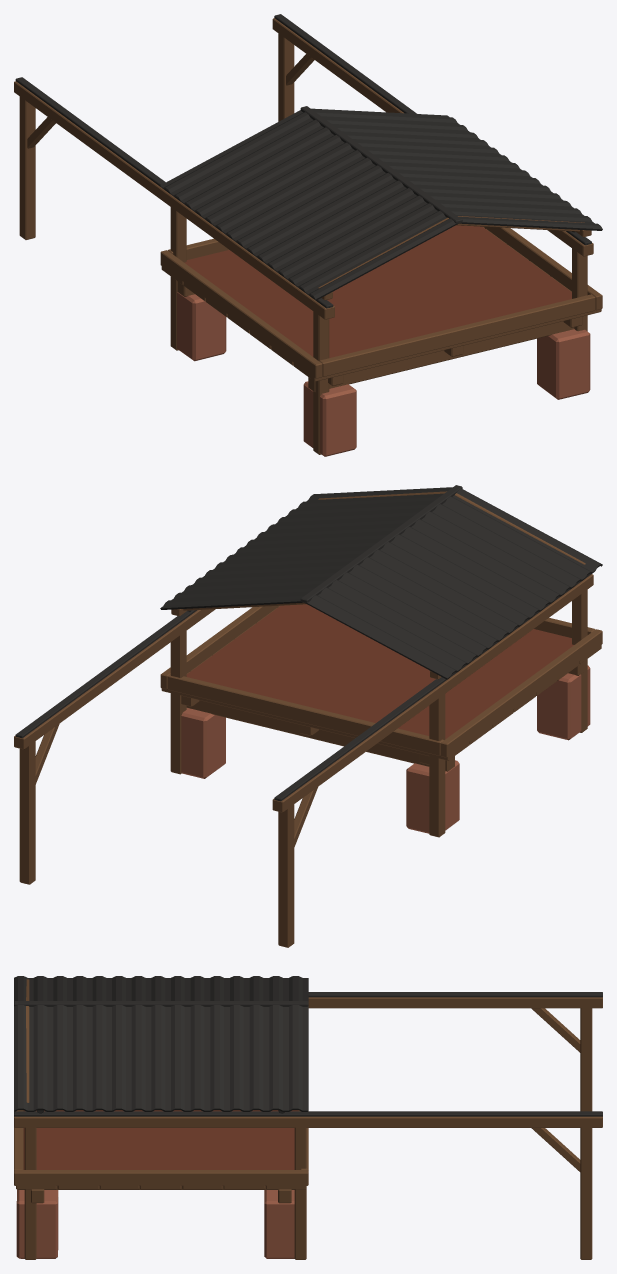
The model's file is cocoa_drying_barcaca.glb.
3 renders of one model, top to bottom at view 1: azimuth 30°, elevation 25°; view 2: azimuth 150°, elevation 25°; view 3: azimuth 270°, elevation 25°, orthographic. The views are drawn at different scales.
Visible parts, largest first — view 1: cocoa_drying_barcaca, cocoa_drying_barcaca_roof; view 2: cocoa_drying_barcaca, cocoa_drying_barcaca_roof; view 3: cocoa_drying_barcaca, cocoa_drying_barcaca_roof.
Part boxes in pixels (x1,y1,x2,y2): cocoa_drying_barcaca: [14, 14, 602, 456]; cocoa_drying_barcaca_roof: [160, 106, 602, 300]; cocoa_drying_barcaca: [14, 573, 602, 947]; cocoa_drying_barcaca_roof: [160, 485, 602, 679]; cocoa_drying_barcaca: [14, 992, 602, 1259]; cocoa_drying_barcaca_roof: [14, 976, 308, 1113].
Size of the model in its own units: 3.2 by 2.2 by 6.
